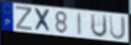8: (54, 10, 69, 35)
I: (77, 11, 82, 37)
U: (109, 14, 127, 41), (90, 13, 108, 39)
X: (33, 7, 53, 34)
Z: (15, 5, 34, 32)
